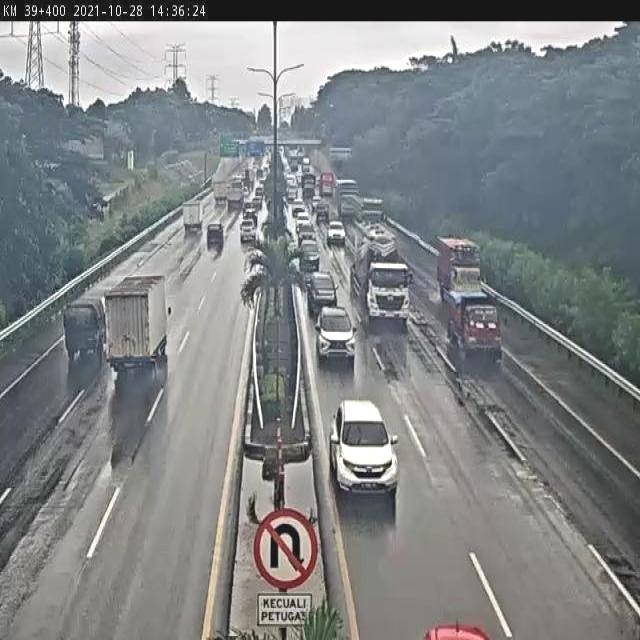Car: (328, 400, 401, 502), (313, 305, 357, 366), (306, 268, 338, 314), (300, 240, 320, 275), (205, 221, 225, 249), (326, 221, 346, 246), (238, 218, 258, 242), (296, 223, 316, 244), (316, 202, 332, 222), (241, 202, 258, 219)
Truck: (104, 270, 170, 372), (348, 238, 412, 321), (445, 284, 502, 354), (436, 237, 482, 298), (62, 298, 106, 358), (336, 180, 358, 218), (182, 199, 203, 231), (320, 172, 334, 196)
